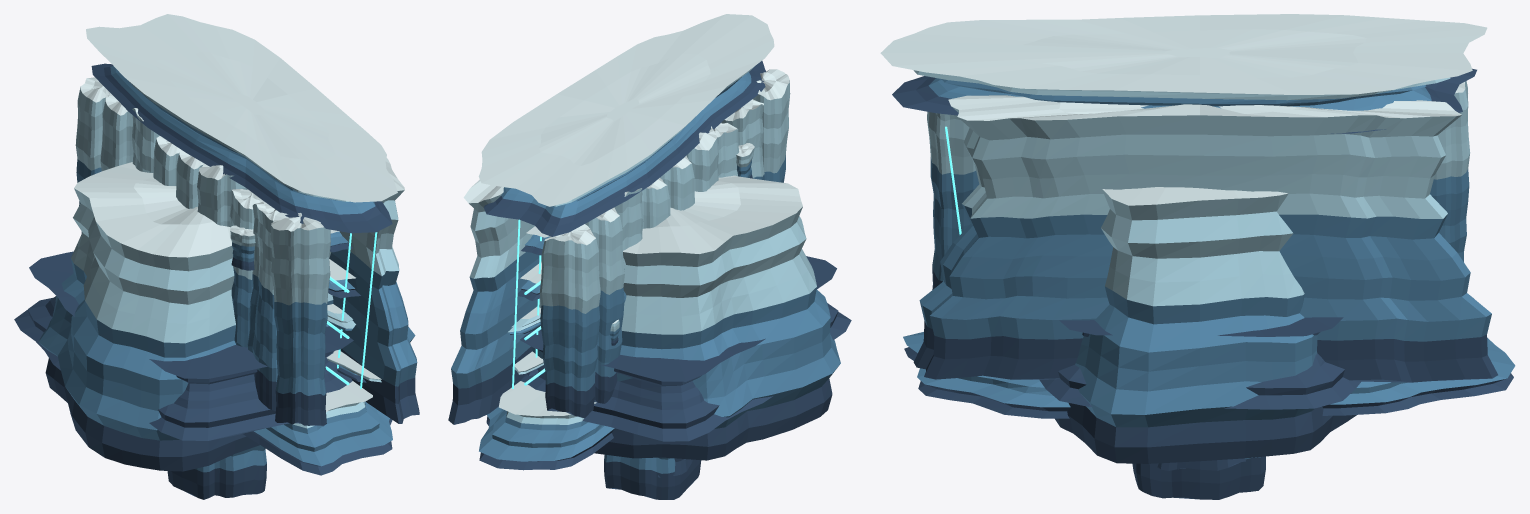
The model's file is glasswake-environment-v2.glb.
The picture shows the model from 3 angles, left to right: view 1: azimuth 30°, elevation 25°; view 2: azimuth 150°, elevation 25°; view 3: azimuth 270°, elevation 25°; orthographic projection. The views are drawn at different scales.
Visible parts, largest first — view 1: far_fragment, calving_roof, basal_strata, calving_chunk_08, calving_back, calving_floor, calving_chunk_07, cliff_2, calving_chunk_00, calving_chunk_06, calving_chunk_01, calving_chunk_05 (+7 smaller); view 2: far_fragment, calving_roof, calving_back, basal_strata, calving_chunk_00, calving_floor, calving_chunk_01, cliff_2, calving_chunk_08, calving_chunk_07, calving_chunk_05, calving_chunk_04 (+7 smaller); view 3: calving_back, far_fragment, calving_roof, calving_floor, basal_strata, calving_chunk_08, cliff_2, calving_chunk_00, cliff_0.
Boxes of the visible parts, <box> form: far_fragment: <box>39,162,415,471</box>; calving_roof: <box>86,14,397,233</box>; basal_strata: <box>14,251,353,440</box>; calving_chunk_08: <box>270,212,330,426</box>; calving_back: <box>329,157,419,423</box>; calving_floor: <box>242,381,392,475</box>; calving_chunk_07: <box>247,201,279,411</box>; cliff_2: <box>167,445,266,499</box>; calving_chunk_00: <box>75,77,110,233</box>; calving_chunk_06: <box>229,189,264,347</box>; calving_chunk_01: <box>100,93,133,171</box>; calving_chunk_05: <box>197,163,247,227</box>; far_fragment: <box>532,175,840,460</box>; calving_roof: <box>478,14,774,236</box>; calving_back: <box>448,179,541,424</box>; basal_strata: <box>520,256,851,441</box>; calving_chunk_00: <box>539,224,600,417</box>; calving_floor: <box>479,381,614,470</box>; calving_chunk_01: <box>585,207,624,403</box>; cliff_2: <box>604,454,701,499</box>; calving_chunk_08: <box>753,69,790,182</box>; calving_chunk_07: <box>721,99,764,180</box>; calving_chunk_05: <box>686,126,718,191</box>; calving_chunk_04: <box>660,155,694,210</box>; calving_back: <box>913,95,1497,382</box>; far_fragment: <box>1055,187,1356,463</box>; calving_roof: <box>880,14,1487,133</box>; calving_floor: <box>903,332,1515,418</box>; basal_strata: <box>1039,317,1360,409</box>; calving_chunk_08: <box>927,111,979,289</box>; cliff_2: <box>1132,456,1265,499</box>; calving_chunk_00: <box>1430,81,1470,261</box>; cliff_0: <box>1157,458,1245,470</box>.
Size of the model in its own units: 360 by 395 by 505.
